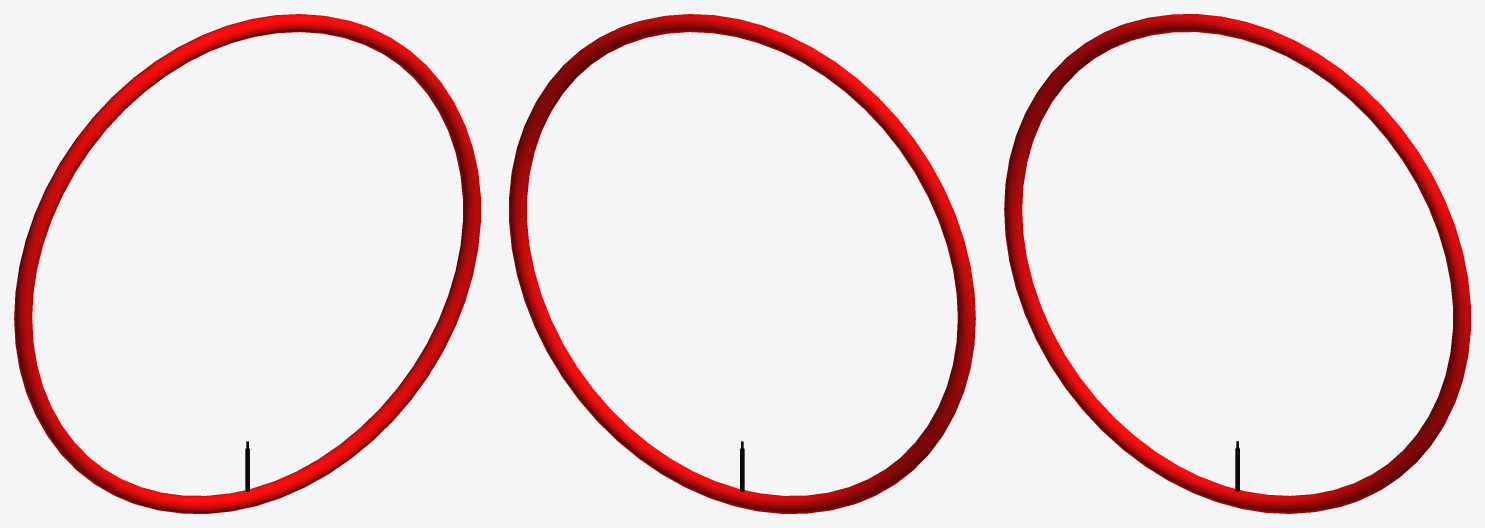
The model's file is inner_tube.obj.
3 renders of one model, left to right at view 1: azimuth 30°, elevation 25°; view 2: azimuth 150°, elevation 25°; view 3: azimuth 330°, elevation 25°, orthographic.
Parts seen in each view (by area): view 1: Solid1; view 2: Solid1; view 3: Solid1.
Part boxes in pixels (bbox=[...]): Solid1: bbox=[14, 14, 480, 513]; Solid1: bbox=[509, 14, 975, 513]; Solid1: bbox=[1004, 14, 1470, 513].
Size of the model in its own units: 0.673 by 0.6728 by 0.0228.
